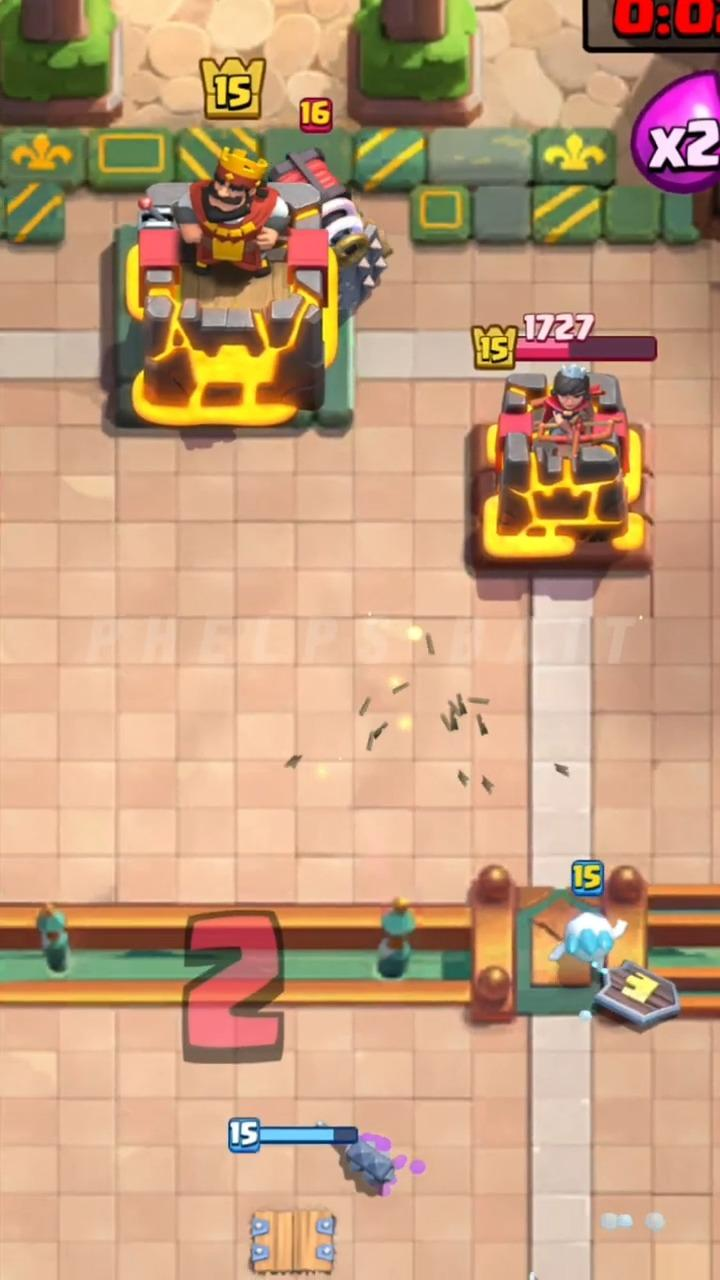ice spirit: (550, 912, 626, 970)
sparky: (270, 151, 391, 319)
tesla: (249, 1209, 335, 1275)
